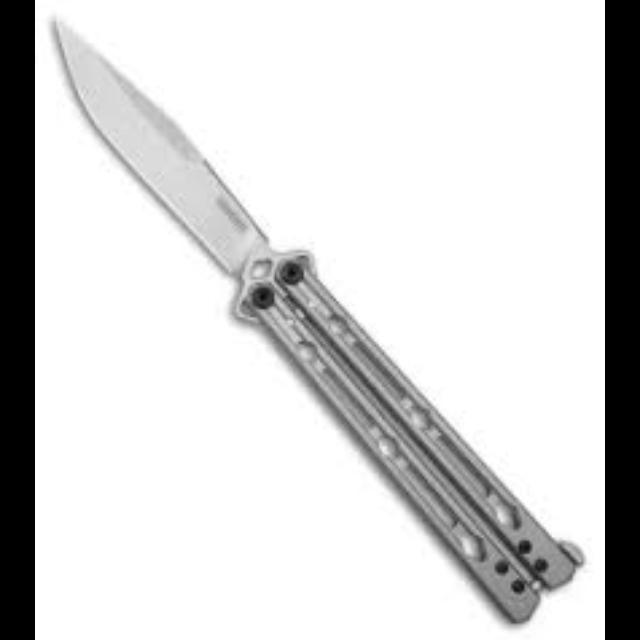knife: (48, 14, 586, 624)
